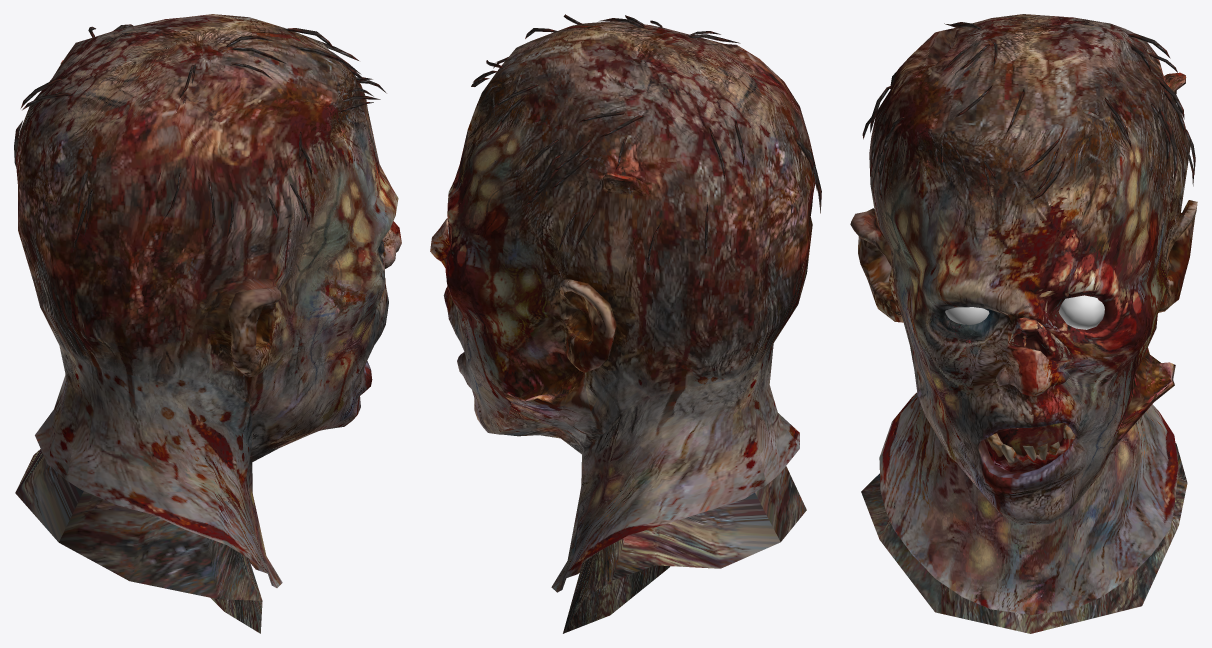
File: head.fbx
The picture shows the model from 3 angles, left to right: view 1: azimuth 30°, elevation 25°; view 2: azimuth 150°, elevation 25°; view 3: azimuth 270°, elevation 25°; orthographic projection.
Parts seen in each view (by area): view 1: c_t9_zmb_ndu_zombie_shirtless1_head1_LOD0_SEModelMesh.086; view 2: c_t9_zmb_ndu_zombie_shirtless1_head1_LOD0_SEModelMesh.086; view 3: c_t9_zmb_ndu_zombie_shirtless1_head1_LOD0_SEModelMesh.086.
Part boxes in pixels (x1,y1,x2,y2): c_t9_zmb_ndu_zombie_shirtless1_head1_LOD0_SEModelMesh.086: [14, 14, 401, 633]; c_t9_zmb_ndu_zombie_shirtless1_head1_LOD0_SEModelMesh.086: [430, 14, 821, 633]; c_t9_zmb_ndu_zombie_shirtless1_head1_LOD0_SEModelMesh.086: [850, 14, 1197, 633].
Size of the model in its own units: 2146 by 3334 by 1784.
